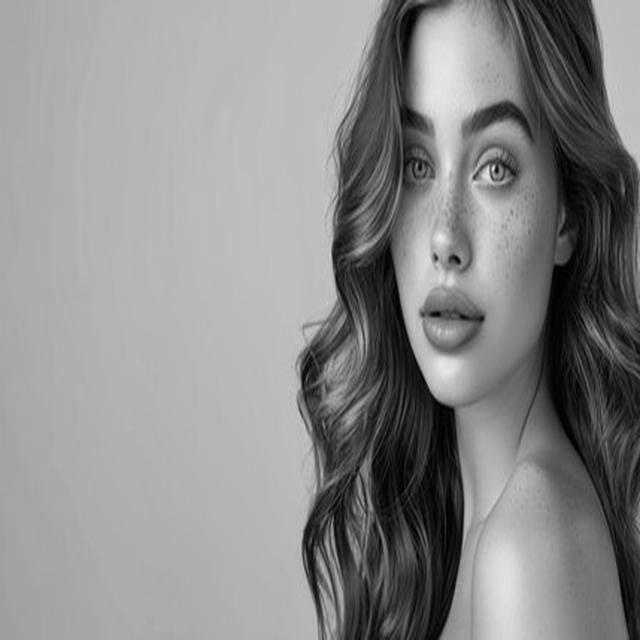Neutral: (390, 3, 556, 406)
